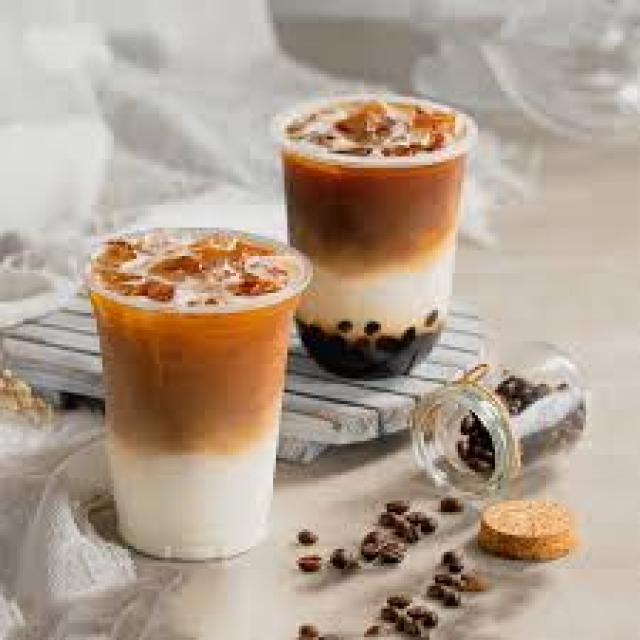bottle: (91, 231, 311, 559), (278, 99, 478, 376)
